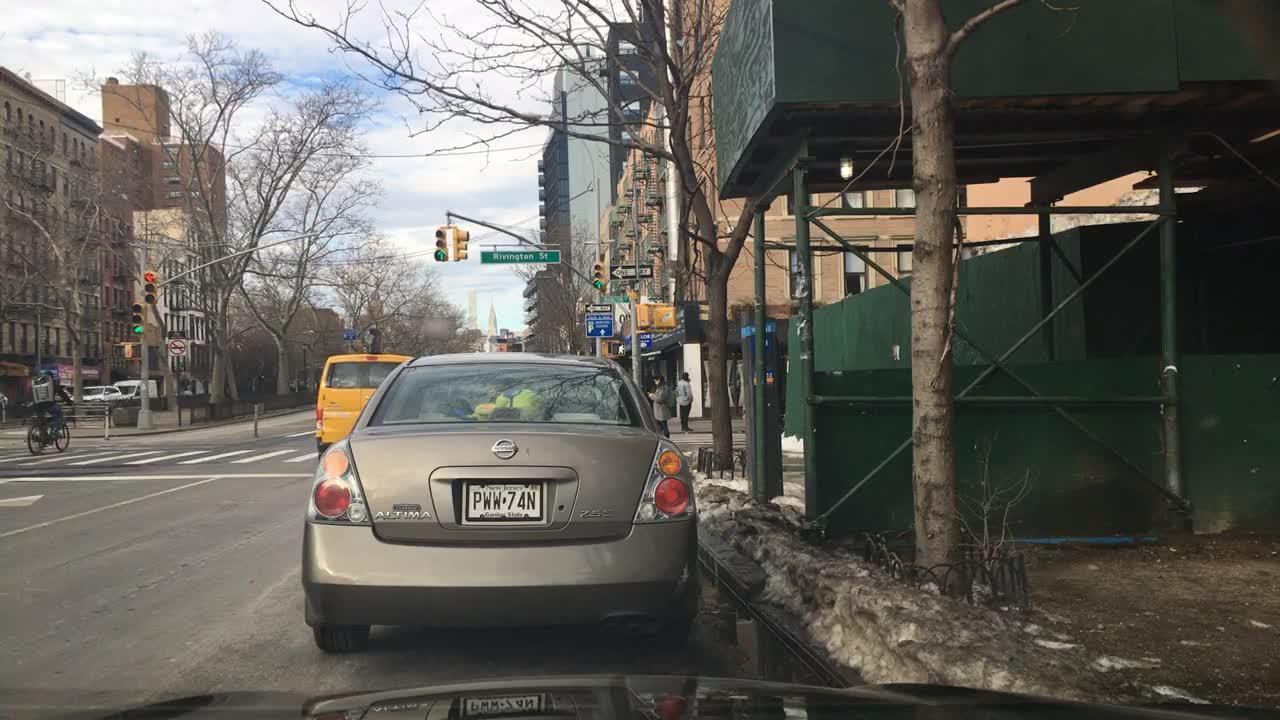Nissan: (488, 433, 530, 469)
